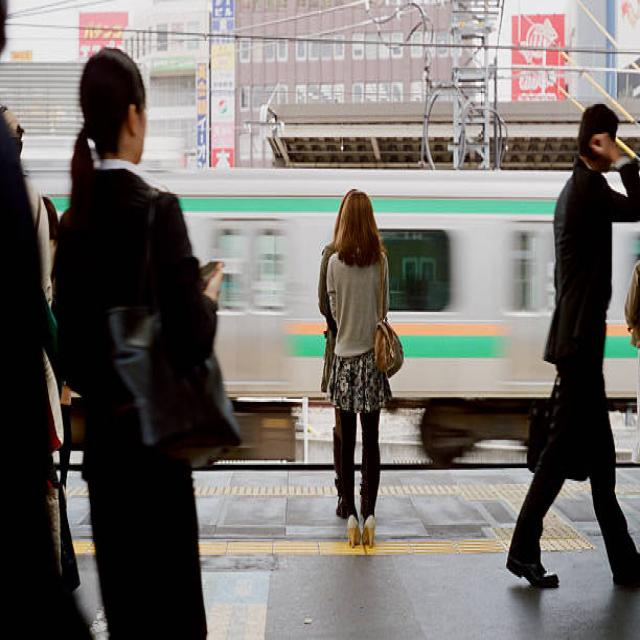stand: (53, 52, 240, 640), (514, 85, 640, 611), (322, 172, 396, 554)
